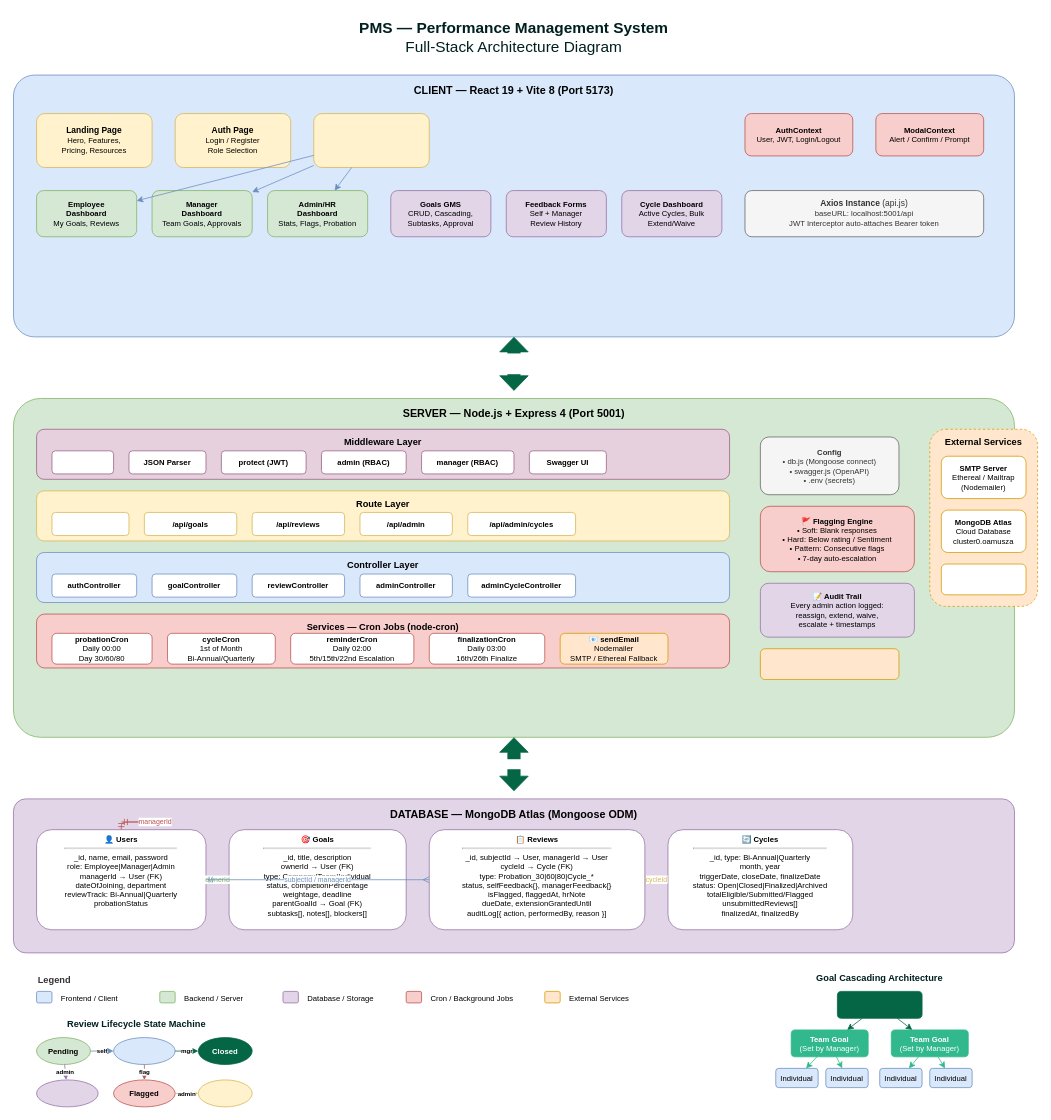
The diagram is 1051 pixels wide and 1120 high, and some of its shapes have lost their labels. The centre of each missing label's shape, as x and y in pixels:
"/api/auth" belongs at [90,524].
"Company Goal (Set by Admin)" belongs at [879,1004].
"CORS" belongs at [82,462].
"Dashboard Shell Sidebar + Topbar Tab Navigation" belongs at [371,140].
"Extended" belongs at [67,1093].
"Submitted" belongs at [144,1051].
"Swagger UI :5001/api-docs" belongs at [983,579].
"Waived" belongs at [225,1093].
"📊 CSV Export Full review data download" belongs at [829,664].
